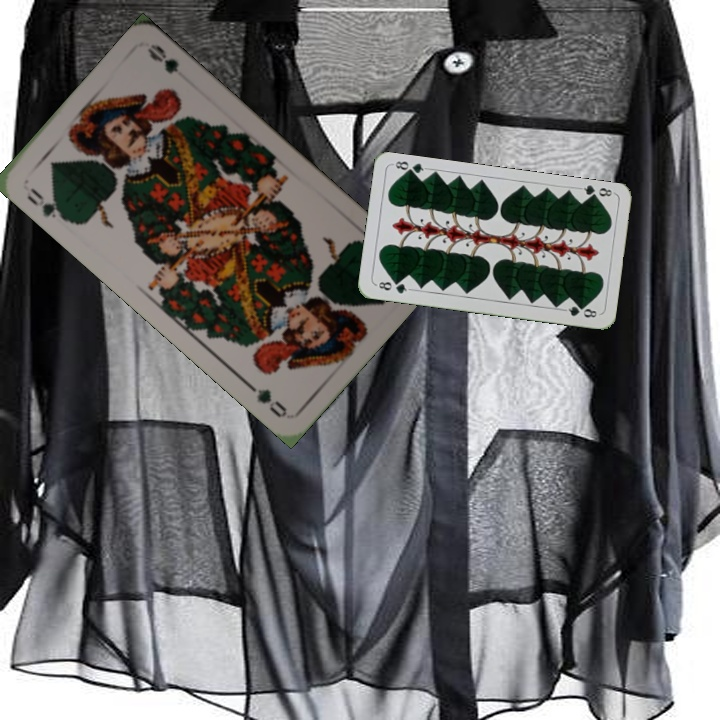G8: (576, 182, 616, 203), (372, 277, 413, 296)
GO: (23, 183, 70, 224)
